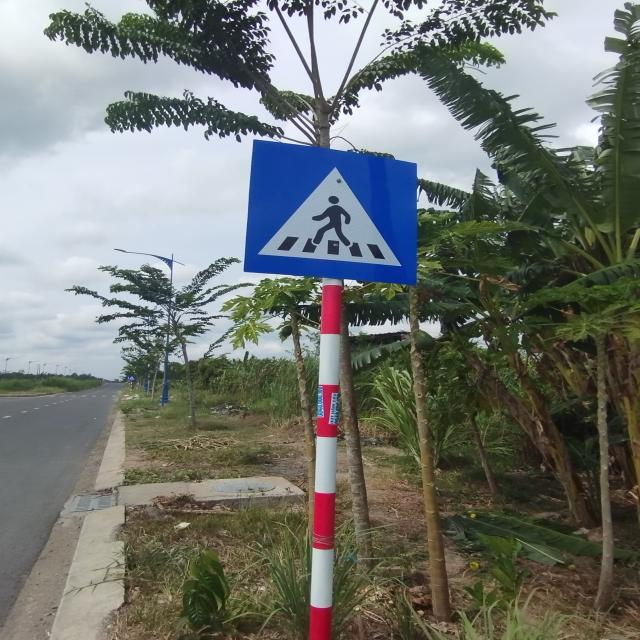Giao_Nhau_Duong_Uu_Tien: (243, 142, 418, 286)
